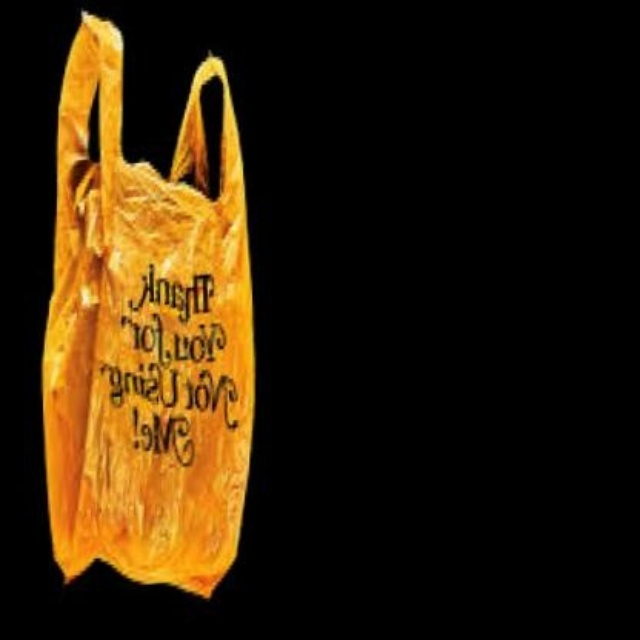trash: (43, 14, 252, 595)
